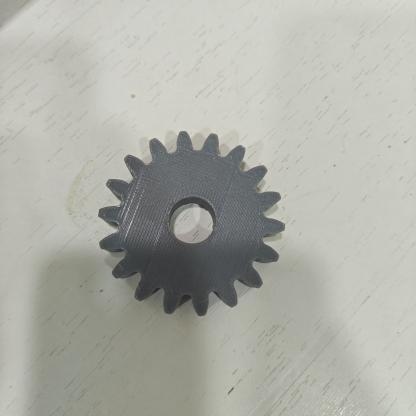gear: (79, 124, 300, 323)
